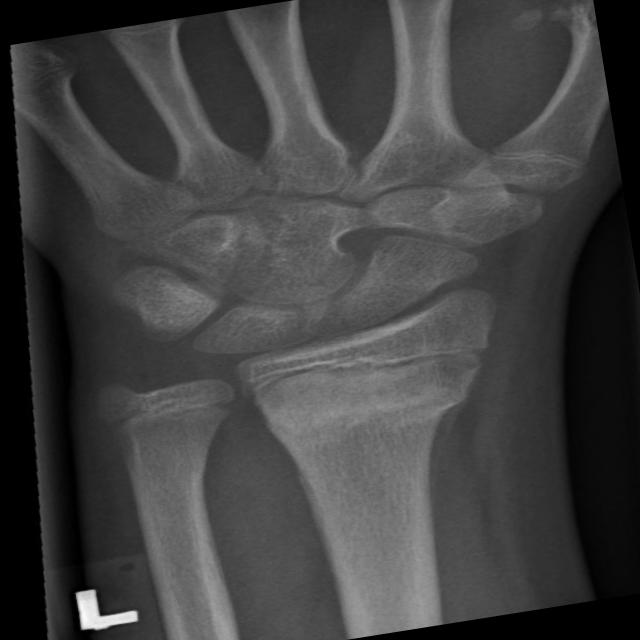fracture: (219, 316, 509, 412), (81, 370, 248, 450)
